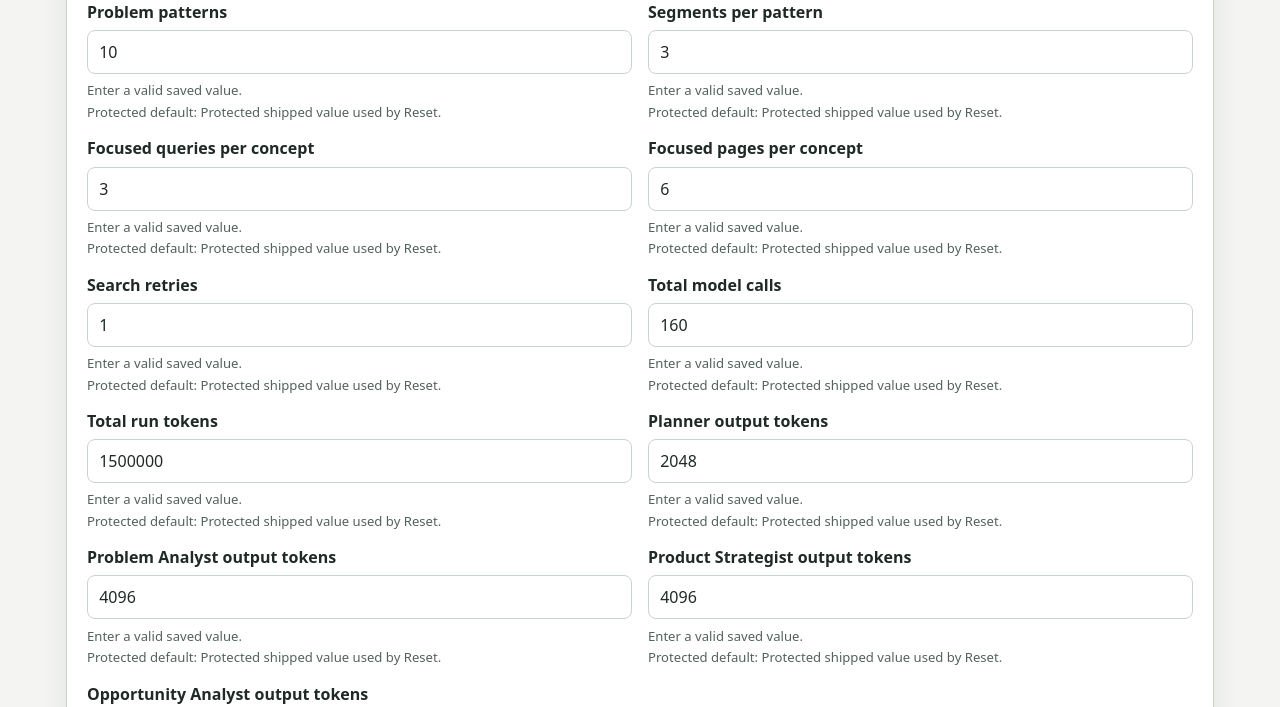
Test: SettingsView › rejects model and token totals that cannot preserve five finalization slots
(page scrolled)
Replace the text in the number field labelled "Total model calls" with "91" at point(920, 325), box [648, 303, 1193, 347]
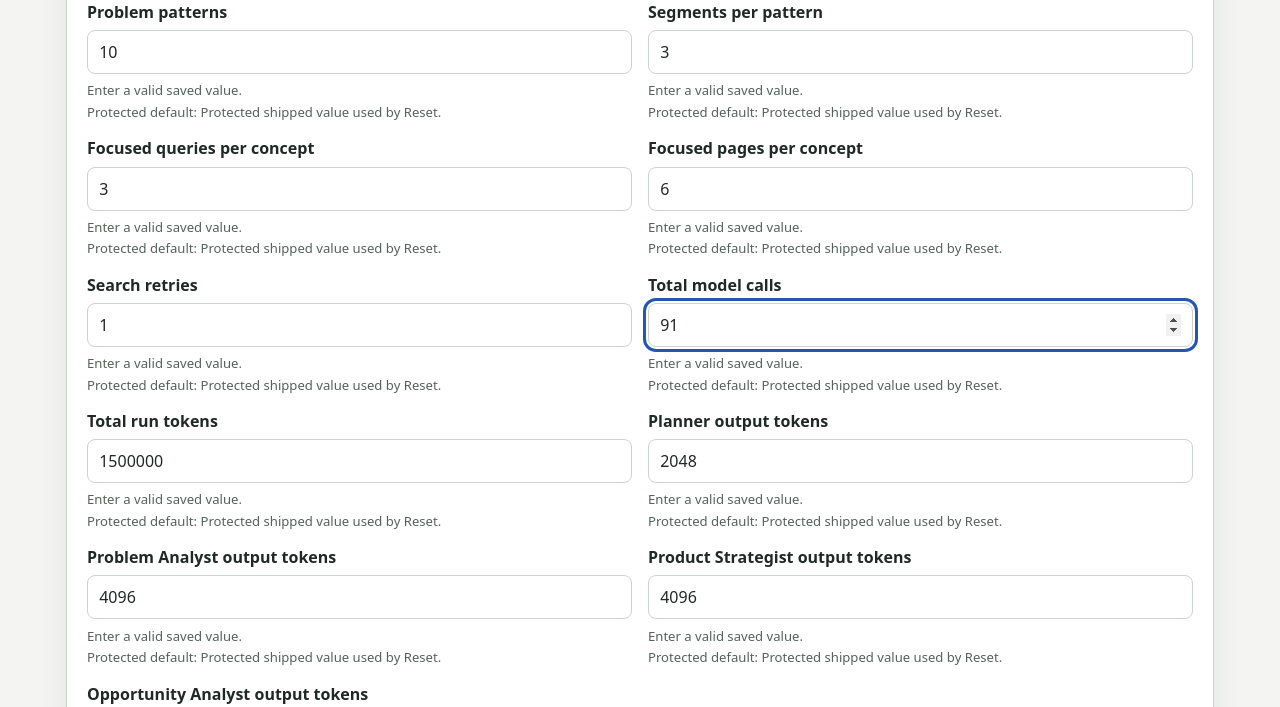
Replace the text in the number field labelled "Total run tokens" with "1120255" at point(360, 461), box [87, 439, 632, 483]
(page scrolled)
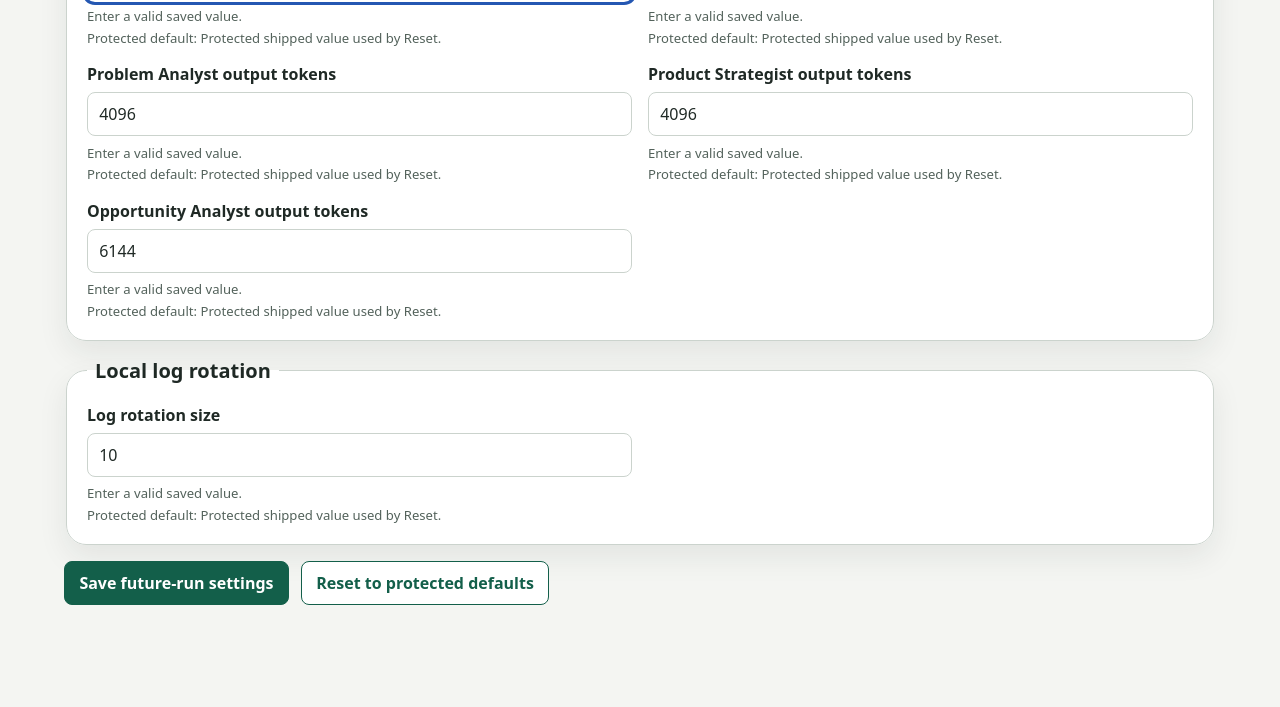
Click the button "Save future-run settings" at point(176, 583), box [64, 561, 289, 605]
(page scrolled)
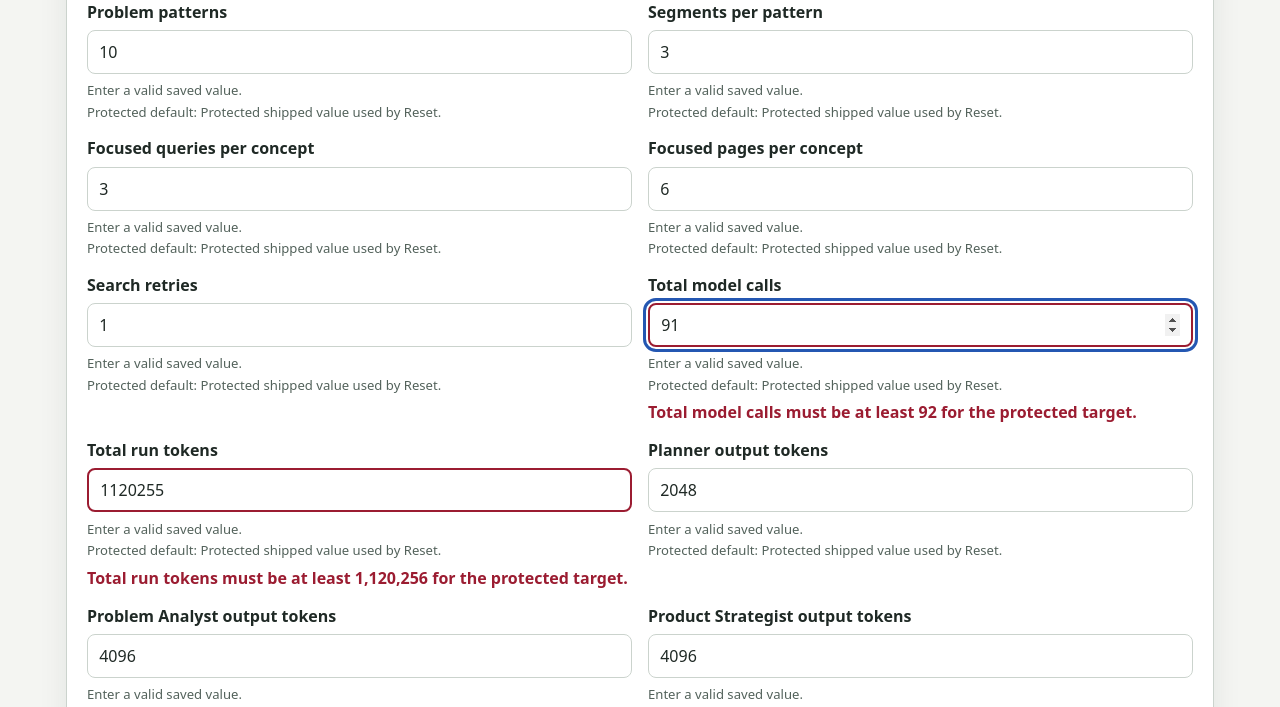
Result: the text "Total model calls must be at least 92 for the protected target." is shown at [648, 401, 1193, 423]
Result: the text "Total run tokens must be at least 1,120,256 for the protected target." is shown at [87, 567, 632, 589]
